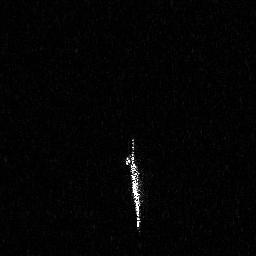ship: (123, 136, 147, 236)
